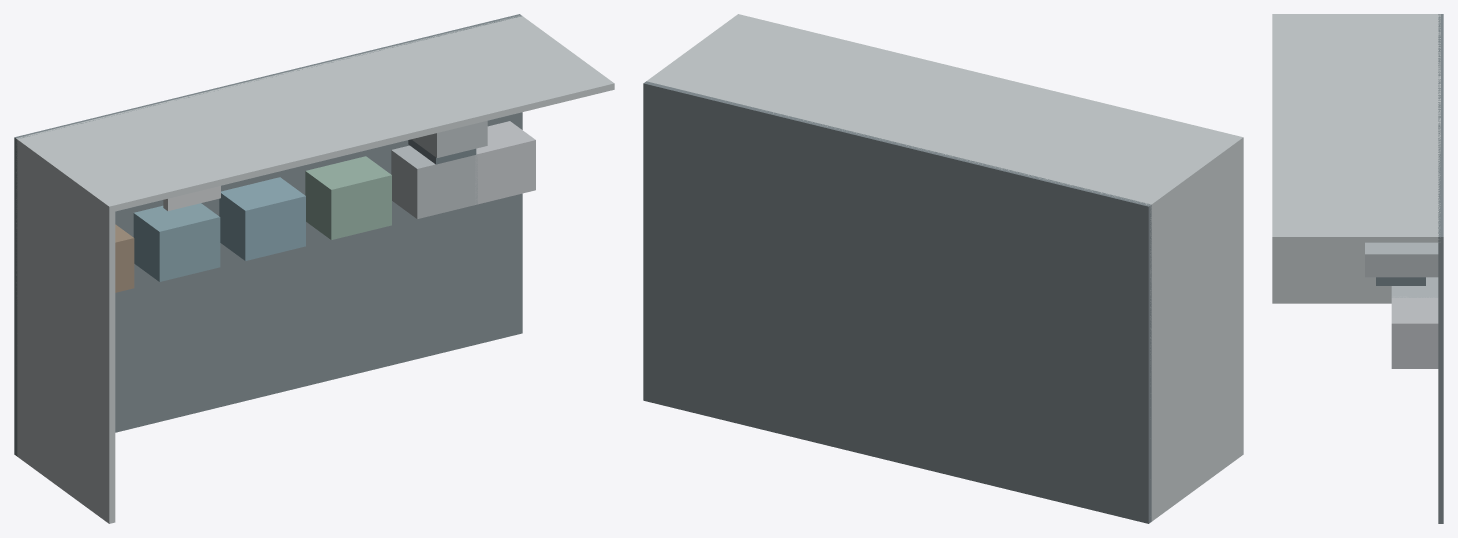
File: cme-room-low.glb
3 renders of one model, left to right at view 1: azimuth 30°, elevation 25°; view 2: azimuth 150°, elevation 25°; view 3: azimuth 270°, elevation 25°, orthographic. The views are drawn at different scales.
Visible parts, largest first — view 1: floor, wall_back, wall_left, packing, inspection, cleaning, sterilizer, sterile_storage, autoclave, receiving_dirty, cleaning_sink; view 2: floor, wall_back, wall_left; view 3: wall_back, wall_left, sterile_storage, floor, autoclave, sterilizer, autoclave_door.
Boxes of the visible parts, x1=… form: floor: x1=14, y1=14, x2=522, y2=456; wall_back: x1=16, y1=15, x2=614, y2=212; wall_left: x1=16, y1=138, x2=115, y2=523; packing: x1=305, y1=156, x2=391, y2=239; inspection: x1=219, y1=177, x2=305, y2=260; cleaning: x1=133, y1=203, x2=220, y2=281; sterilizer: x1=391, y1=145, x2=477, y2=219; sterile_storage: x1=475, y1=121, x2=535, y2=204; autoclave: x1=412, y1=121, x2=487, y2=157; receiving_dirty: x1=115, y1=224, x2=134, y2=292; cleaning_sink: x1=163, y1=186, x2=220, y2=210; floor: x1=643, y1=81, x2=1151, y2=523; wall_back: x1=646, y1=14, x2=1243, y2=210; wall_left: x1=1145, y1=136, x2=1243, y2=521; wall_back: x1=1272, y1=14, x2=1440, y2=242; wall_left: x1=1272, y1=14, x2=1440, y2=303; sterile_storage: x1=1391, y1=296, x2=1438, y2=368; floor: x1=1438, y1=14, x2=1443, y2=523; autoclave: x1=1365, y1=242, x2=1438, y2=277; sterilizer: x1=1391, y1=277, x2=1438, y2=297; autoclave_door: x1=1376, y1=277, x2=1425, y2=285.
Bounding box in the file's own units: 10 × 6 × 3.25.
